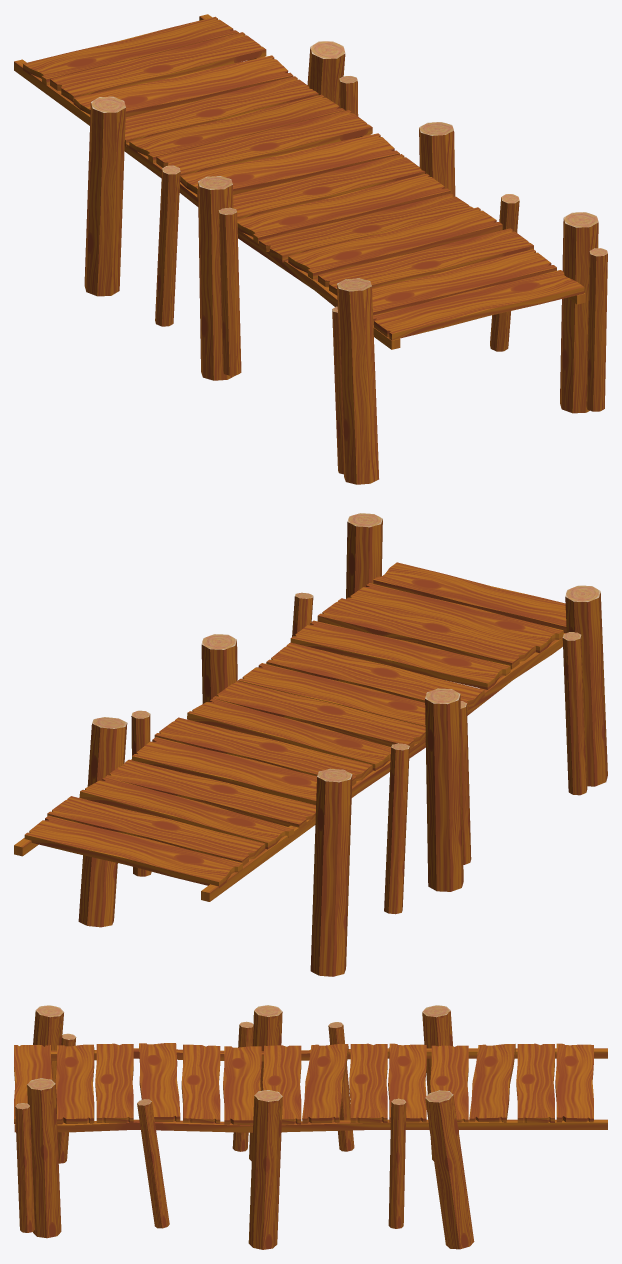
File: dock.fbx
The picture shows the model from 3 angles, top to bottom: view 1: azimuth 30°, elevation 25°; view 2: azimuth 150°, elevation 25°; view 3: azimuth 270°, elevation 25°; orthographic projection. The views are drawn at different scales.
Parts seen in each view (by area): view 1: Plane.033; view 2: Plane.033; view 3: Plane.033.
Part boxes in pixels (<box>): Plane.033: <box>14,14,607,484</box>; Plane.033: <box>14,513,607,976</box>; Plane.033: <box>14,1005,607,1249</box>.
Bounding box in the file's own units: 298 × 233 × 772.
